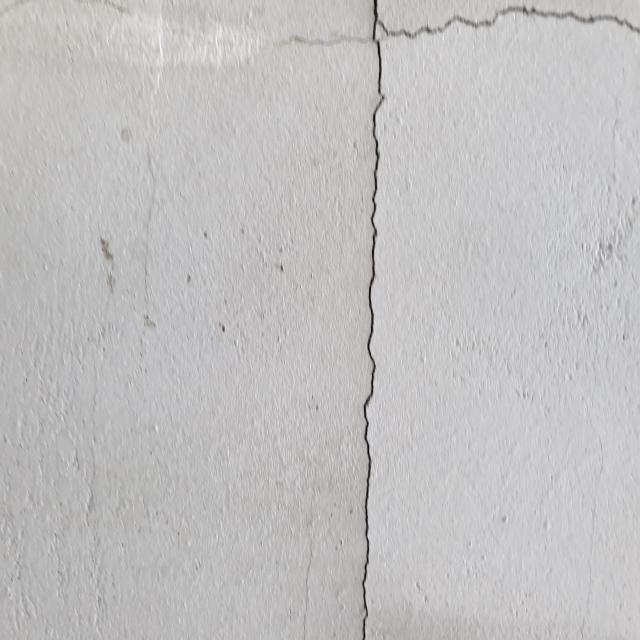SurfaceCrack: (309, 1, 435, 640)
